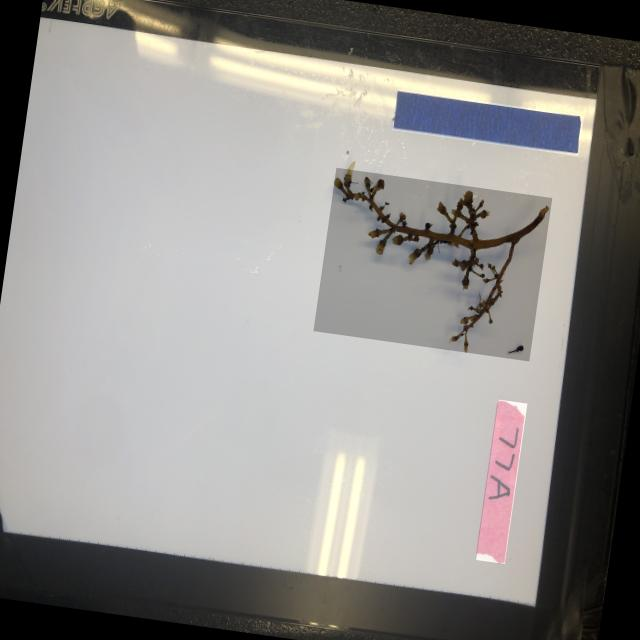index: (476, 400, 526, 564)
measure_label: (391, 90, 583, 156)
rachis_cluster: (313, 168, 552, 362)
